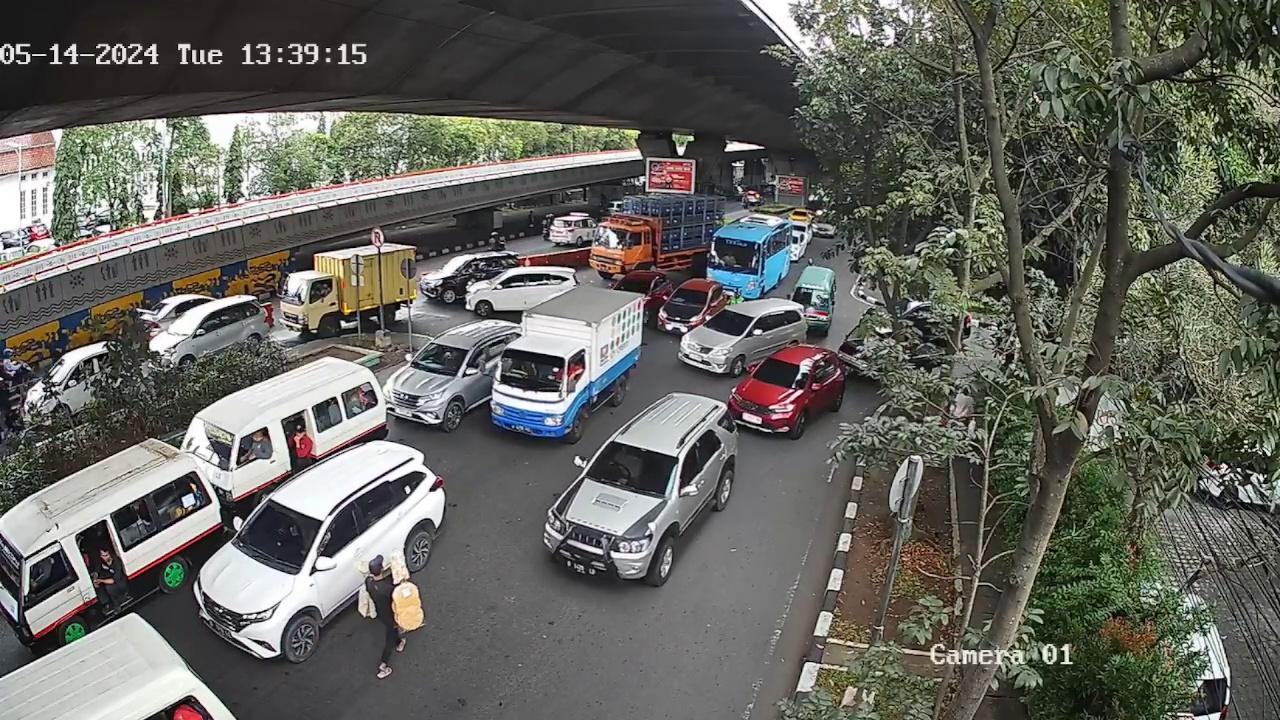tidak-pakai: (613, 449, 640, 477)
windshield: (235, 497, 330, 564), (590, 442, 680, 494), (494, 350, 579, 392), (184, 416, 238, 474), (750, 353, 811, 390), (409, 339, 465, 379), (700, 308, 751, 334)
